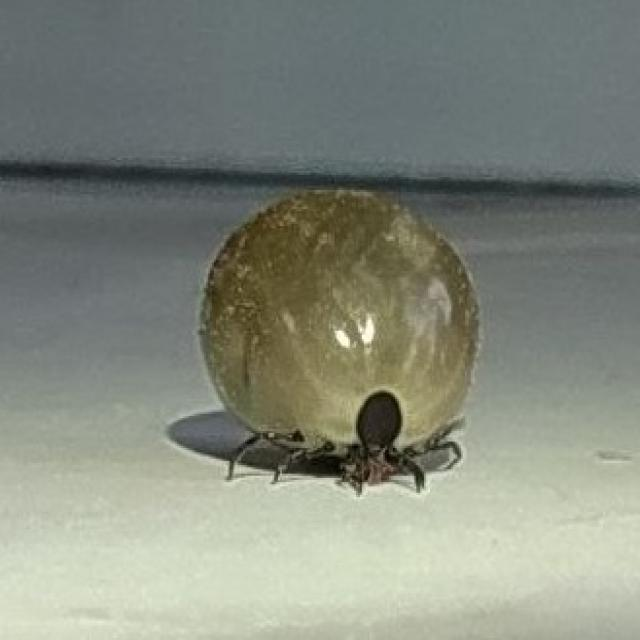Ixodes Ricinus-F-Fed: (193, 188, 480, 499)
